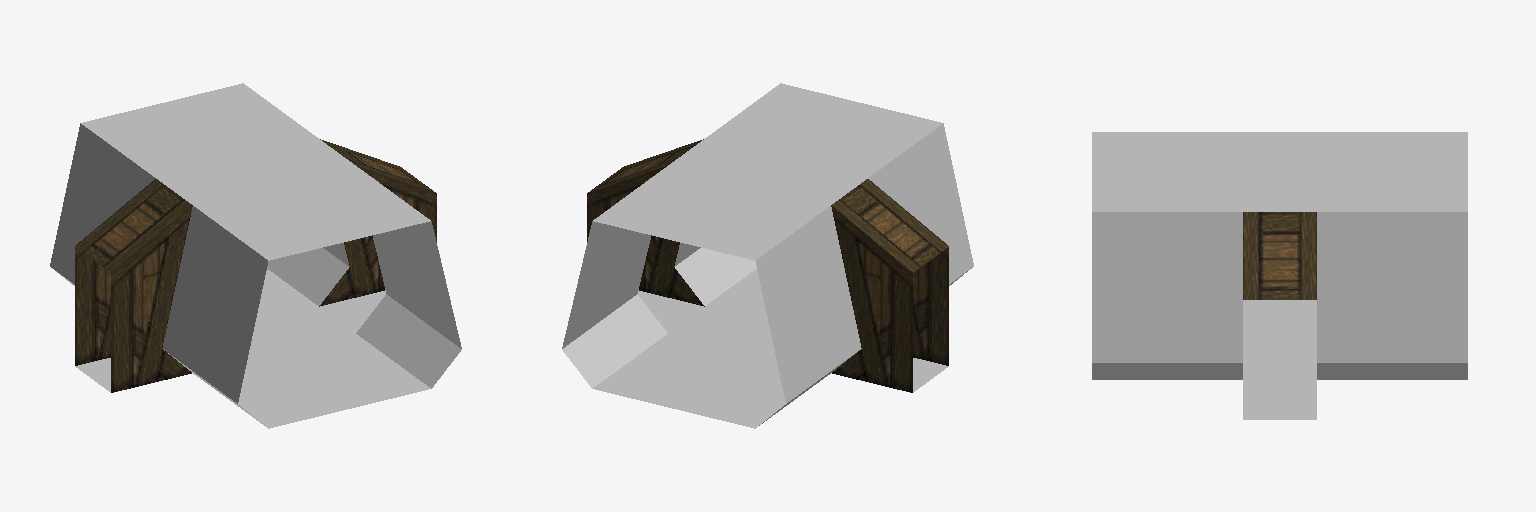
The picture shows the model from 3 angles: view 1: azimuth 30°, elevation 25°; view 2: azimuth 150°, elevation 25°; view 3: azimuth 270°, elevation 25°; orthographic projection.
Parts seen in each view (by area): view 1: model63038-node; view 2: model63038-node; view 3: model63038-node.
Part boxes in pixels (x1,y1,x2,y2): model63038-node: (50,83,461,428); model63038-node: (562,83,973,428); model63038-node: (1092,132,1467,419).
Bounding box in the file's own units: 6.4 × 3.15 × 6.4.
6 materials, 2 textured.